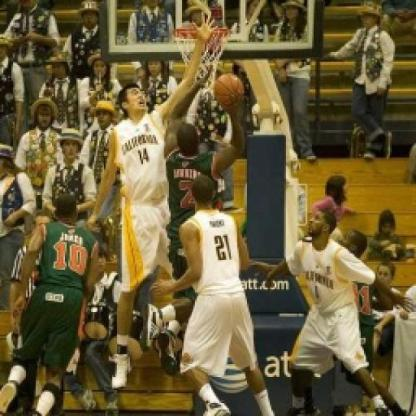basketball: (210, 68, 247, 109)
